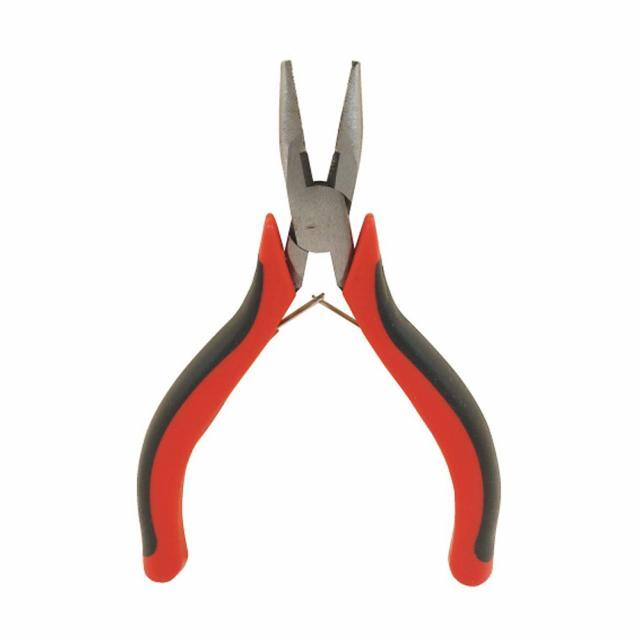pliers: (118, 54, 514, 594)
